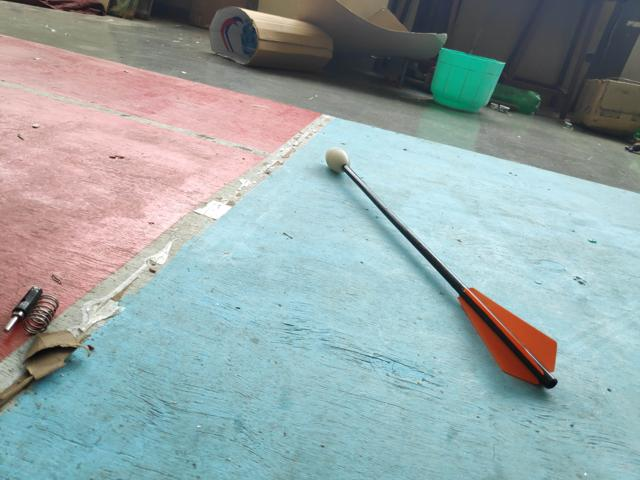Head: (321, 143, 354, 178)
Tail: (451, 284, 562, 391)
